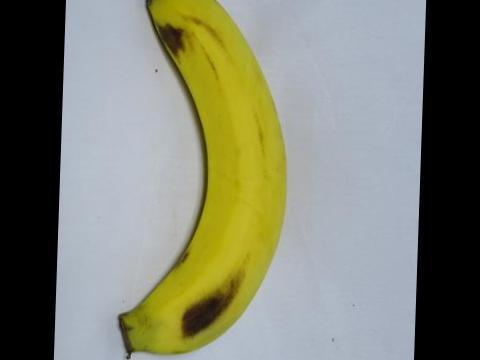freshripe: (104, 0, 298, 359)
